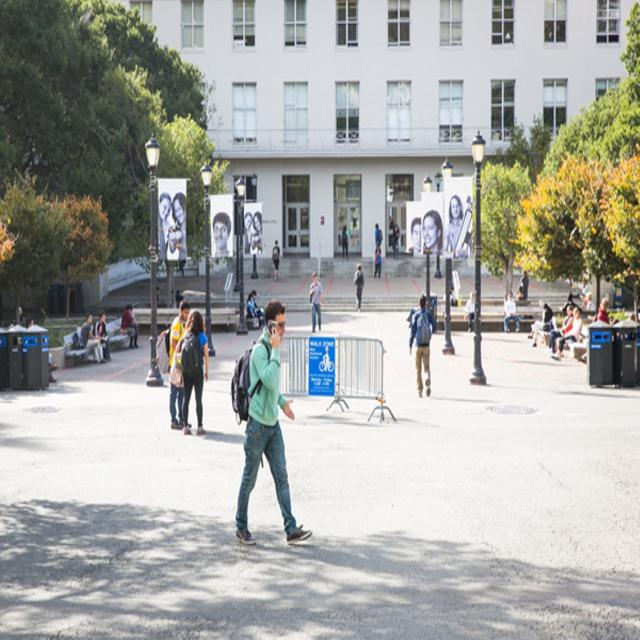body: (229, 296, 315, 547), (168, 307, 210, 437), (408, 294, 438, 399), (169, 298, 191, 428), (155, 188, 183, 260), (551, 306, 583, 362), (448, 191, 474, 257), (547, 305, 575, 358), (79, 312, 107, 364), (410, 208, 441, 253), (527, 302, 553, 348), (92, 308, 112, 362), (580, 314, 602, 361), (308, 272, 324, 334), (596, 296, 618, 339), (211, 212, 231, 258), (501, 290, 521, 333), (247, 291, 267, 331), (243, 210, 261, 254), (410, 293, 430, 331), (124, 302, 140, 349), (120, 303, 136, 349), (582, 291, 598, 333), (353, 261, 365, 313), (576, 292, 592, 328), (562, 290, 582, 318), (271, 239, 283, 282), (464, 290, 476, 333), (246, 292, 262, 320), (450, 267, 460, 307), (340, 223, 350, 262), (372, 242, 382, 280), (152, 286, 164, 315), (520, 269, 528, 307), (392, 223, 400, 260), (387, 214, 395, 250), (374, 223, 383, 250), (627, 306, 640, 323), (352, 218, 359, 249), (174, 289, 184, 310), (25, 318, 33, 330), (16, 314, 24, 326)
